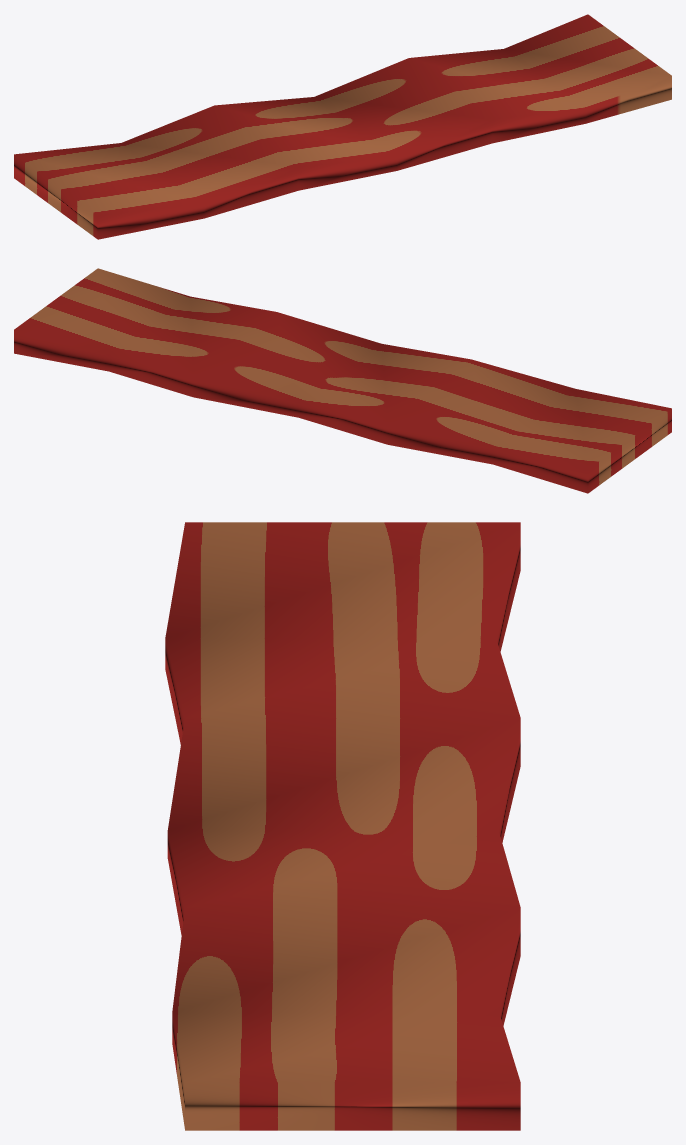
The model's file is Bacon.fbx.
3 views of the same model, one above another, from view 1: azimuth 30°, elevation 25°; view 2: azimuth 150°, elevation 25°; view 3: azimuth 270°, elevation 25° (orthographic). The views are drawn at different scales.
Visible parts, largest first — view 1: Bacon; view 2: Bacon; view 3: Bacon.
Boxes of the visible parts, box(x1,y1,x2,y2) form: Bacon: box(14, 14, 671, 239); Bacon: box(14, 268, 671, 493); Bacon: box(165, 522, 520, 1130).
Bounding box in the file's own units: 200 × 7.95 × 53.64.
1 material, 1 textured.
